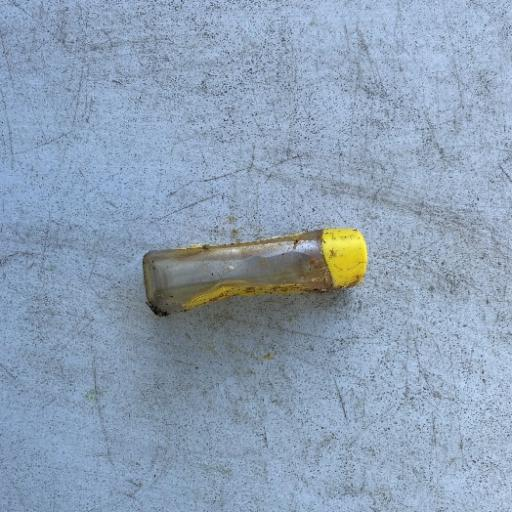Plastic: (140, 224, 368, 318)
